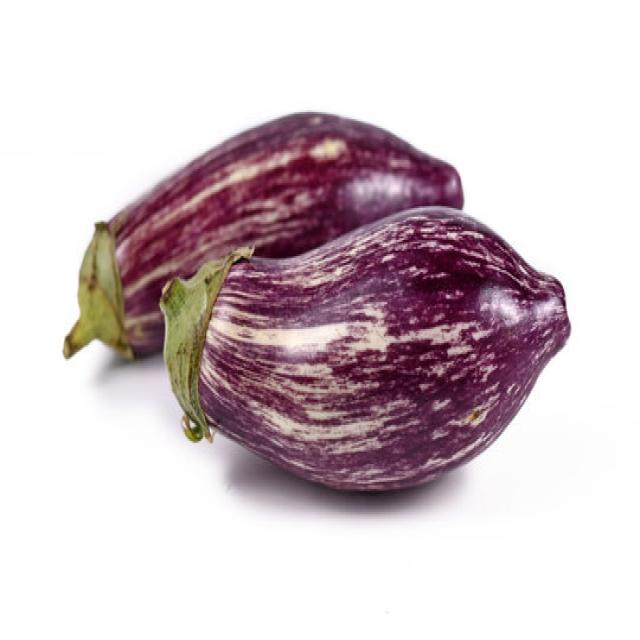Eggplant: (158, 202, 571, 492), (61, 109, 464, 362)
